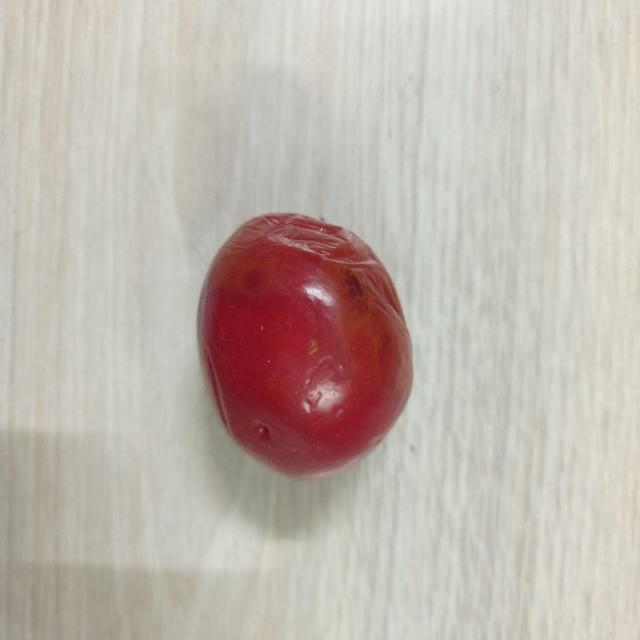Rotten: (194, 211, 415, 473)
